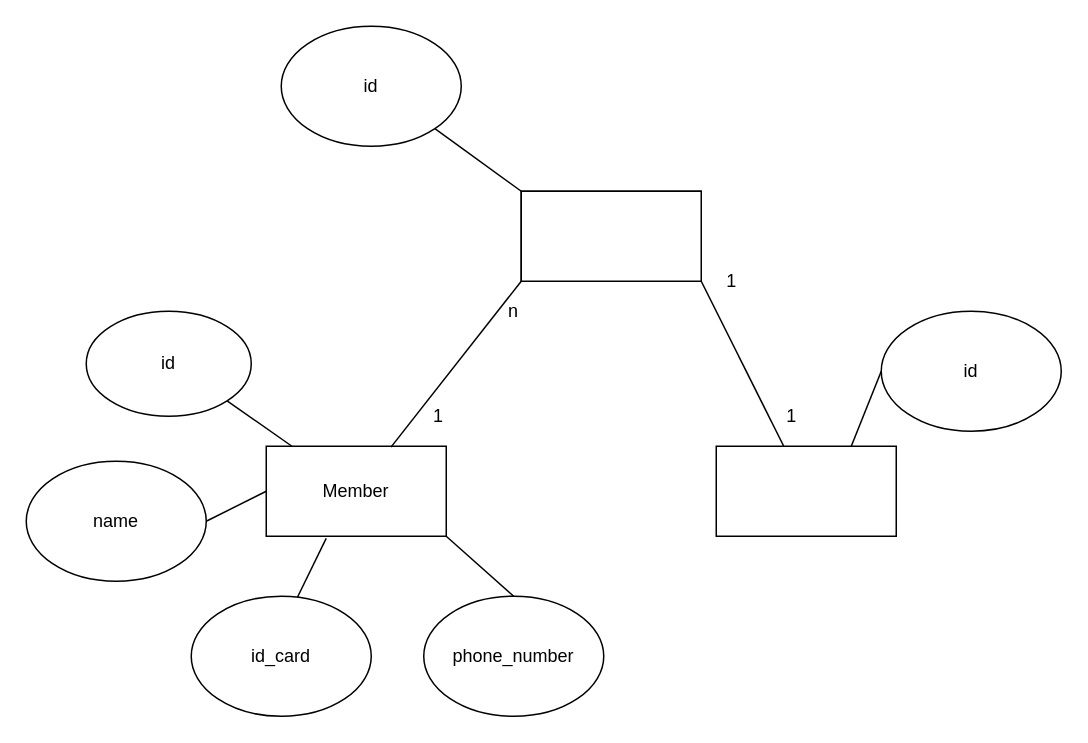
The diagram is 1088 pixels wide and 743 high, and some of its shapes have lost their labels. Here are the shapes that lost their labels. From the top down, the box of each, then its label:
(520, 190, 701, 281): book_tickers
(715, 445, 896, 536): Booking_detail
